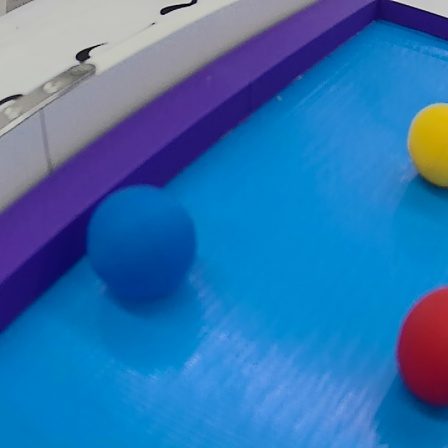blue: (81, 183, 202, 302)
blue_aim: (6, 5, 448, 446)
red: (391, 283, 448, 415)
yellow: (400, 100, 448, 201)
